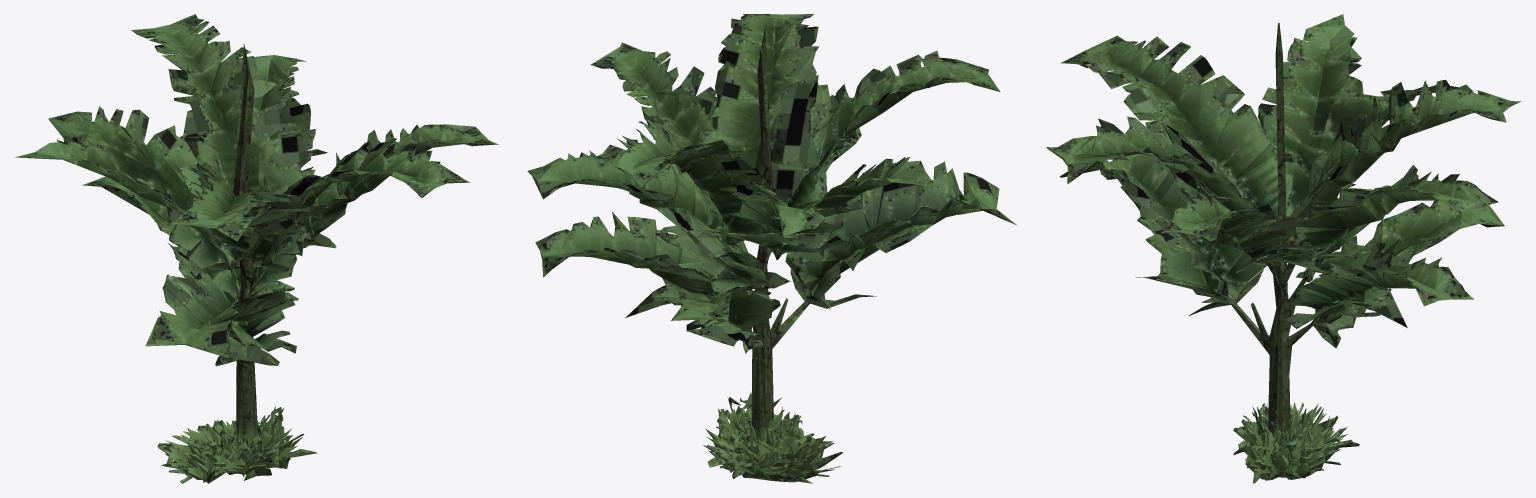
The model's file is bog_fern_01.glb.
3 renders of one model, left to right at view 1: azimuth 30°, elevation 25°; view 2: azimuth 150°, elevation 25°; view 3: azimuth 270°, elevation 25°, orthographic. The views are drawn at different scales.
Parts seen in each view (by area): view 1: geometry_0; view 2: geometry_0; view 3: geometry_0.
Boxes of the visible parts, <box> form: geometry_0: <box>14,14,498,483</box>; geometry_0: <box>527,14,1016,483</box>; geometry_0: <box>1046,14,1521,483</box>.
Bounding box in the file's own units: 0.9828 × 0.9997 × 0.9777.
1 material, 1 textured.
